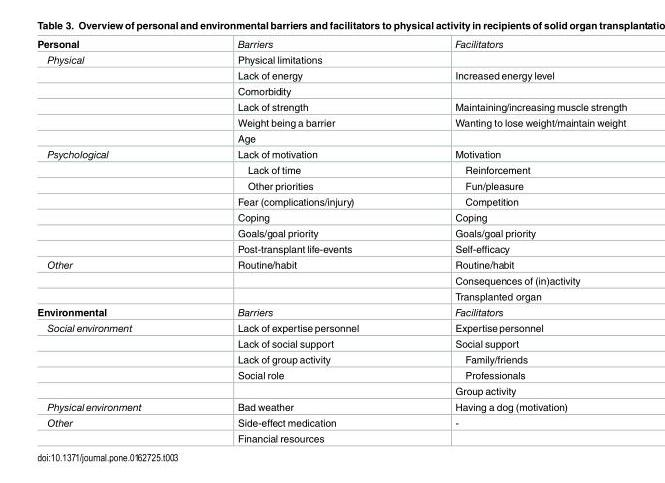table: (36, 37, 626, 443)
table column: (406, 37, 626, 443), (188, 37, 406, 443), (36, 37, 188, 443)
table row: (36, 66, 626, 82), (36, 82, 626, 98), (36, 98, 626, 114), (36, 114, 626, 130), (36, 145, 626, 161), (36, 161, 626, 177), (36, 177, 626, 193), (36, 193, 626, 209), (36, 224, 626, 240), (36, 240, 626, 256), (36, 256, 626, 272), (36, 287, 626, 303), (36, 303, 626, 319), (36, 319, 626, 335), (36, 335, 626, 351), (36, 366, 626, 382), (36, 382, 626, 398), (36, 398, 626, 414), (36, 51, 626, 66), (36, 130, 626, 145), (36, 209, 626, 224), (36, 272, 626, 287), (36, 351, 626, 366), (36, 414, 626, 429), (36, 37, 626, 51), (36, 429, 626, 443)
table spanning cell: (36, 145, 188, 256), (36, 51, 188, 145), (36, 319, 188, 398), (36, 256, 188, 303), (36, 414, 188, 443)
